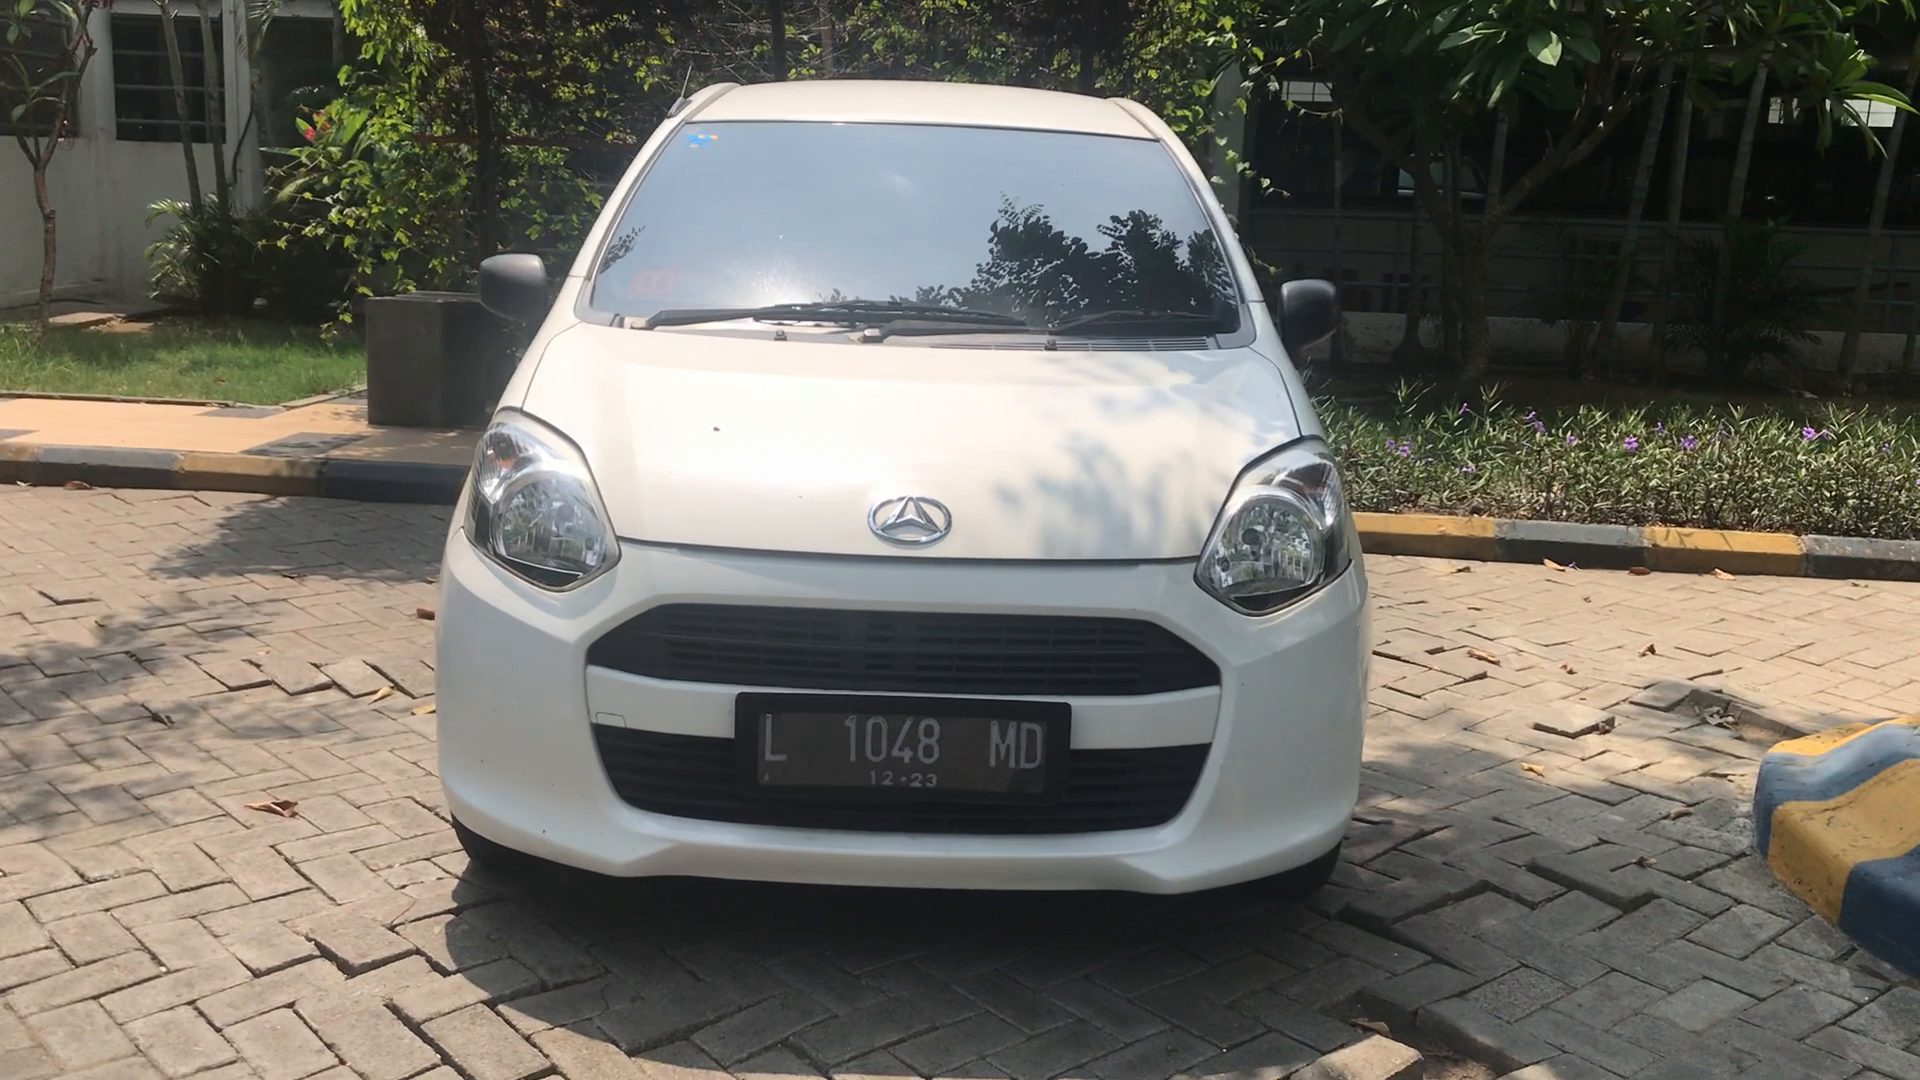plate: (757, 702, 1065, 800)
